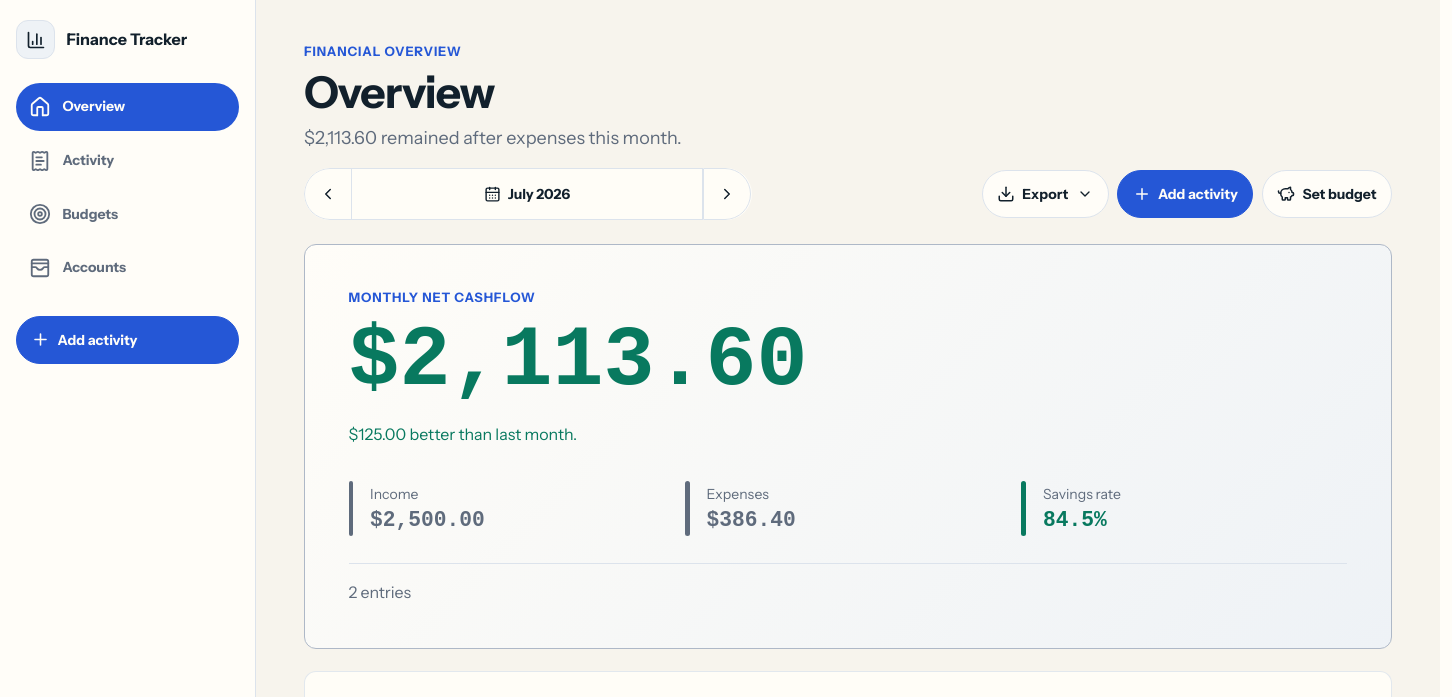
Test case: app composition › activates each destination at its remembered scroll position
The width and height of the screenshot is (1452, 697).
(page scrolled)
Step 1. Click the link "Activity" → (71, 161), box [29, 150, 114, 172]
(page scrolled)
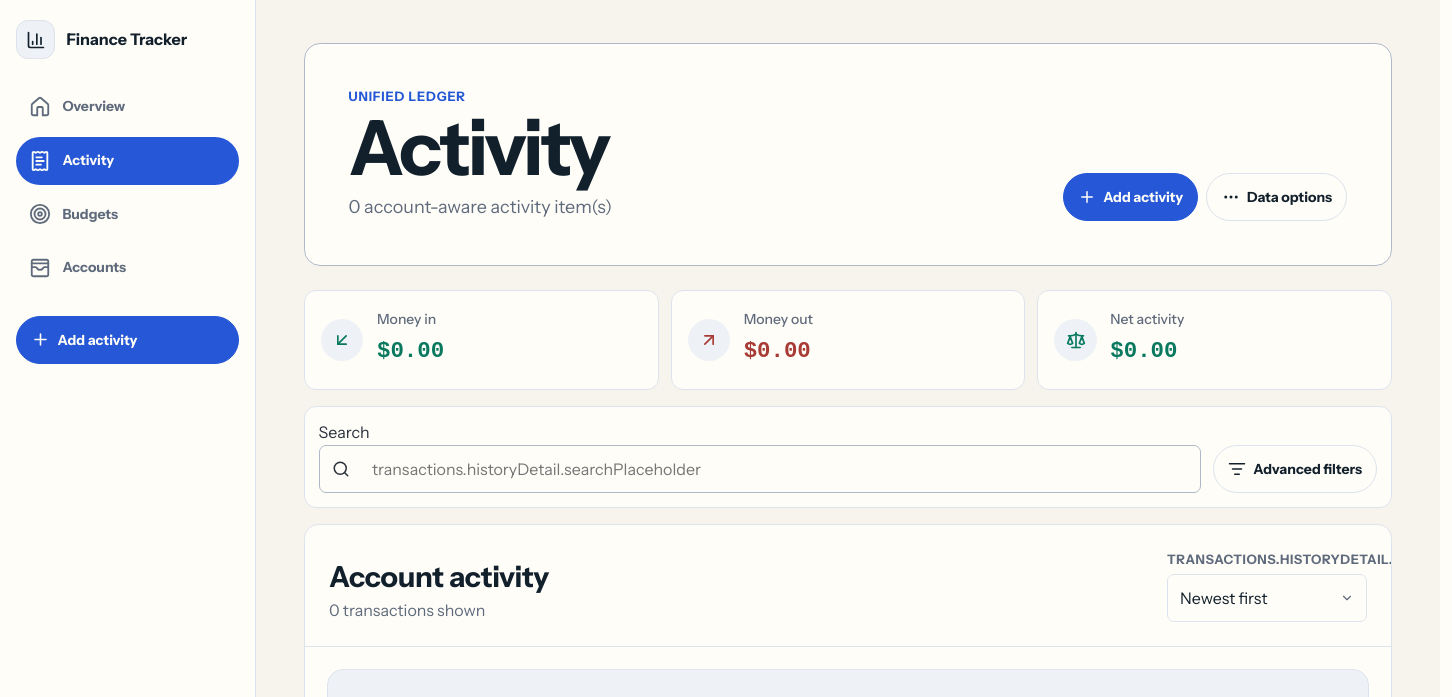
Expected: the heading "Activity" is shown, [348, 101, 608, 194]
Step 2. Click the link "Overview" → (77, 107), box [29, 96, 125, 118]
(page scrolled)
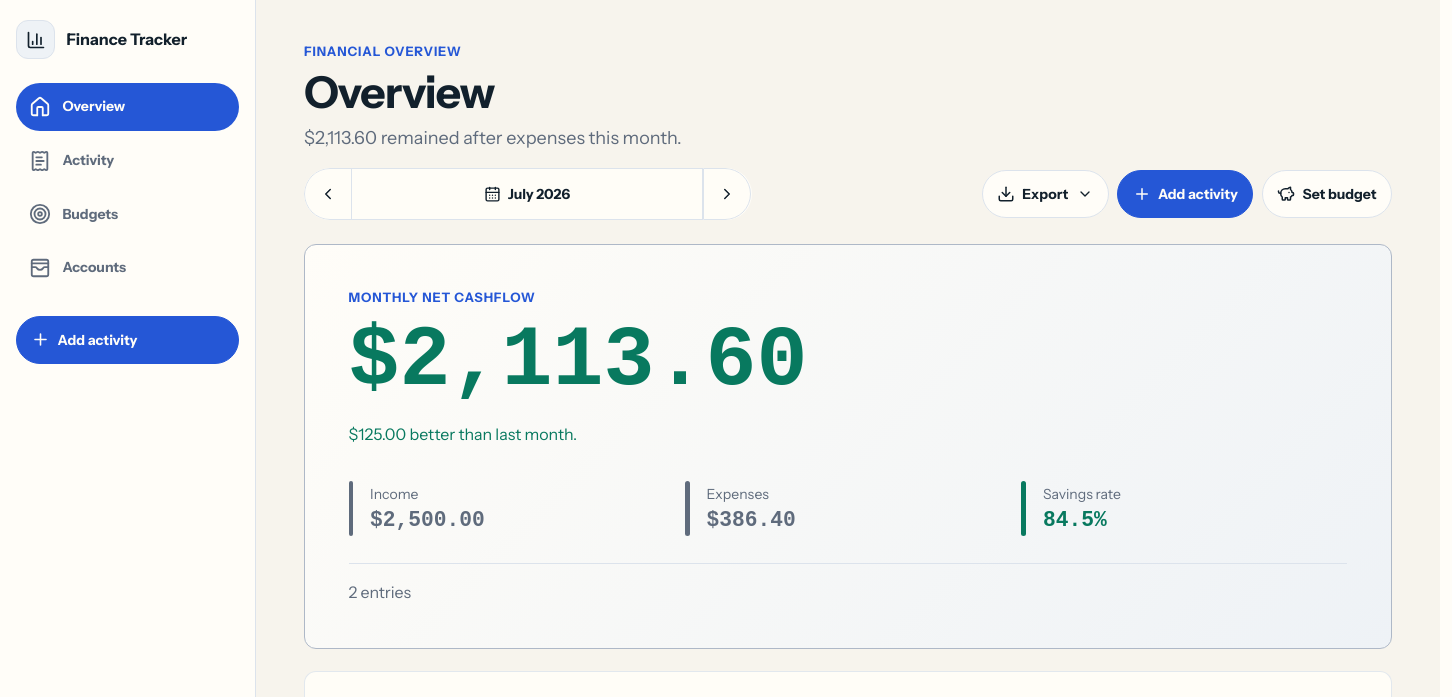
Expected: the heading "Overview" is shown, [304, 65, 494, 119]
